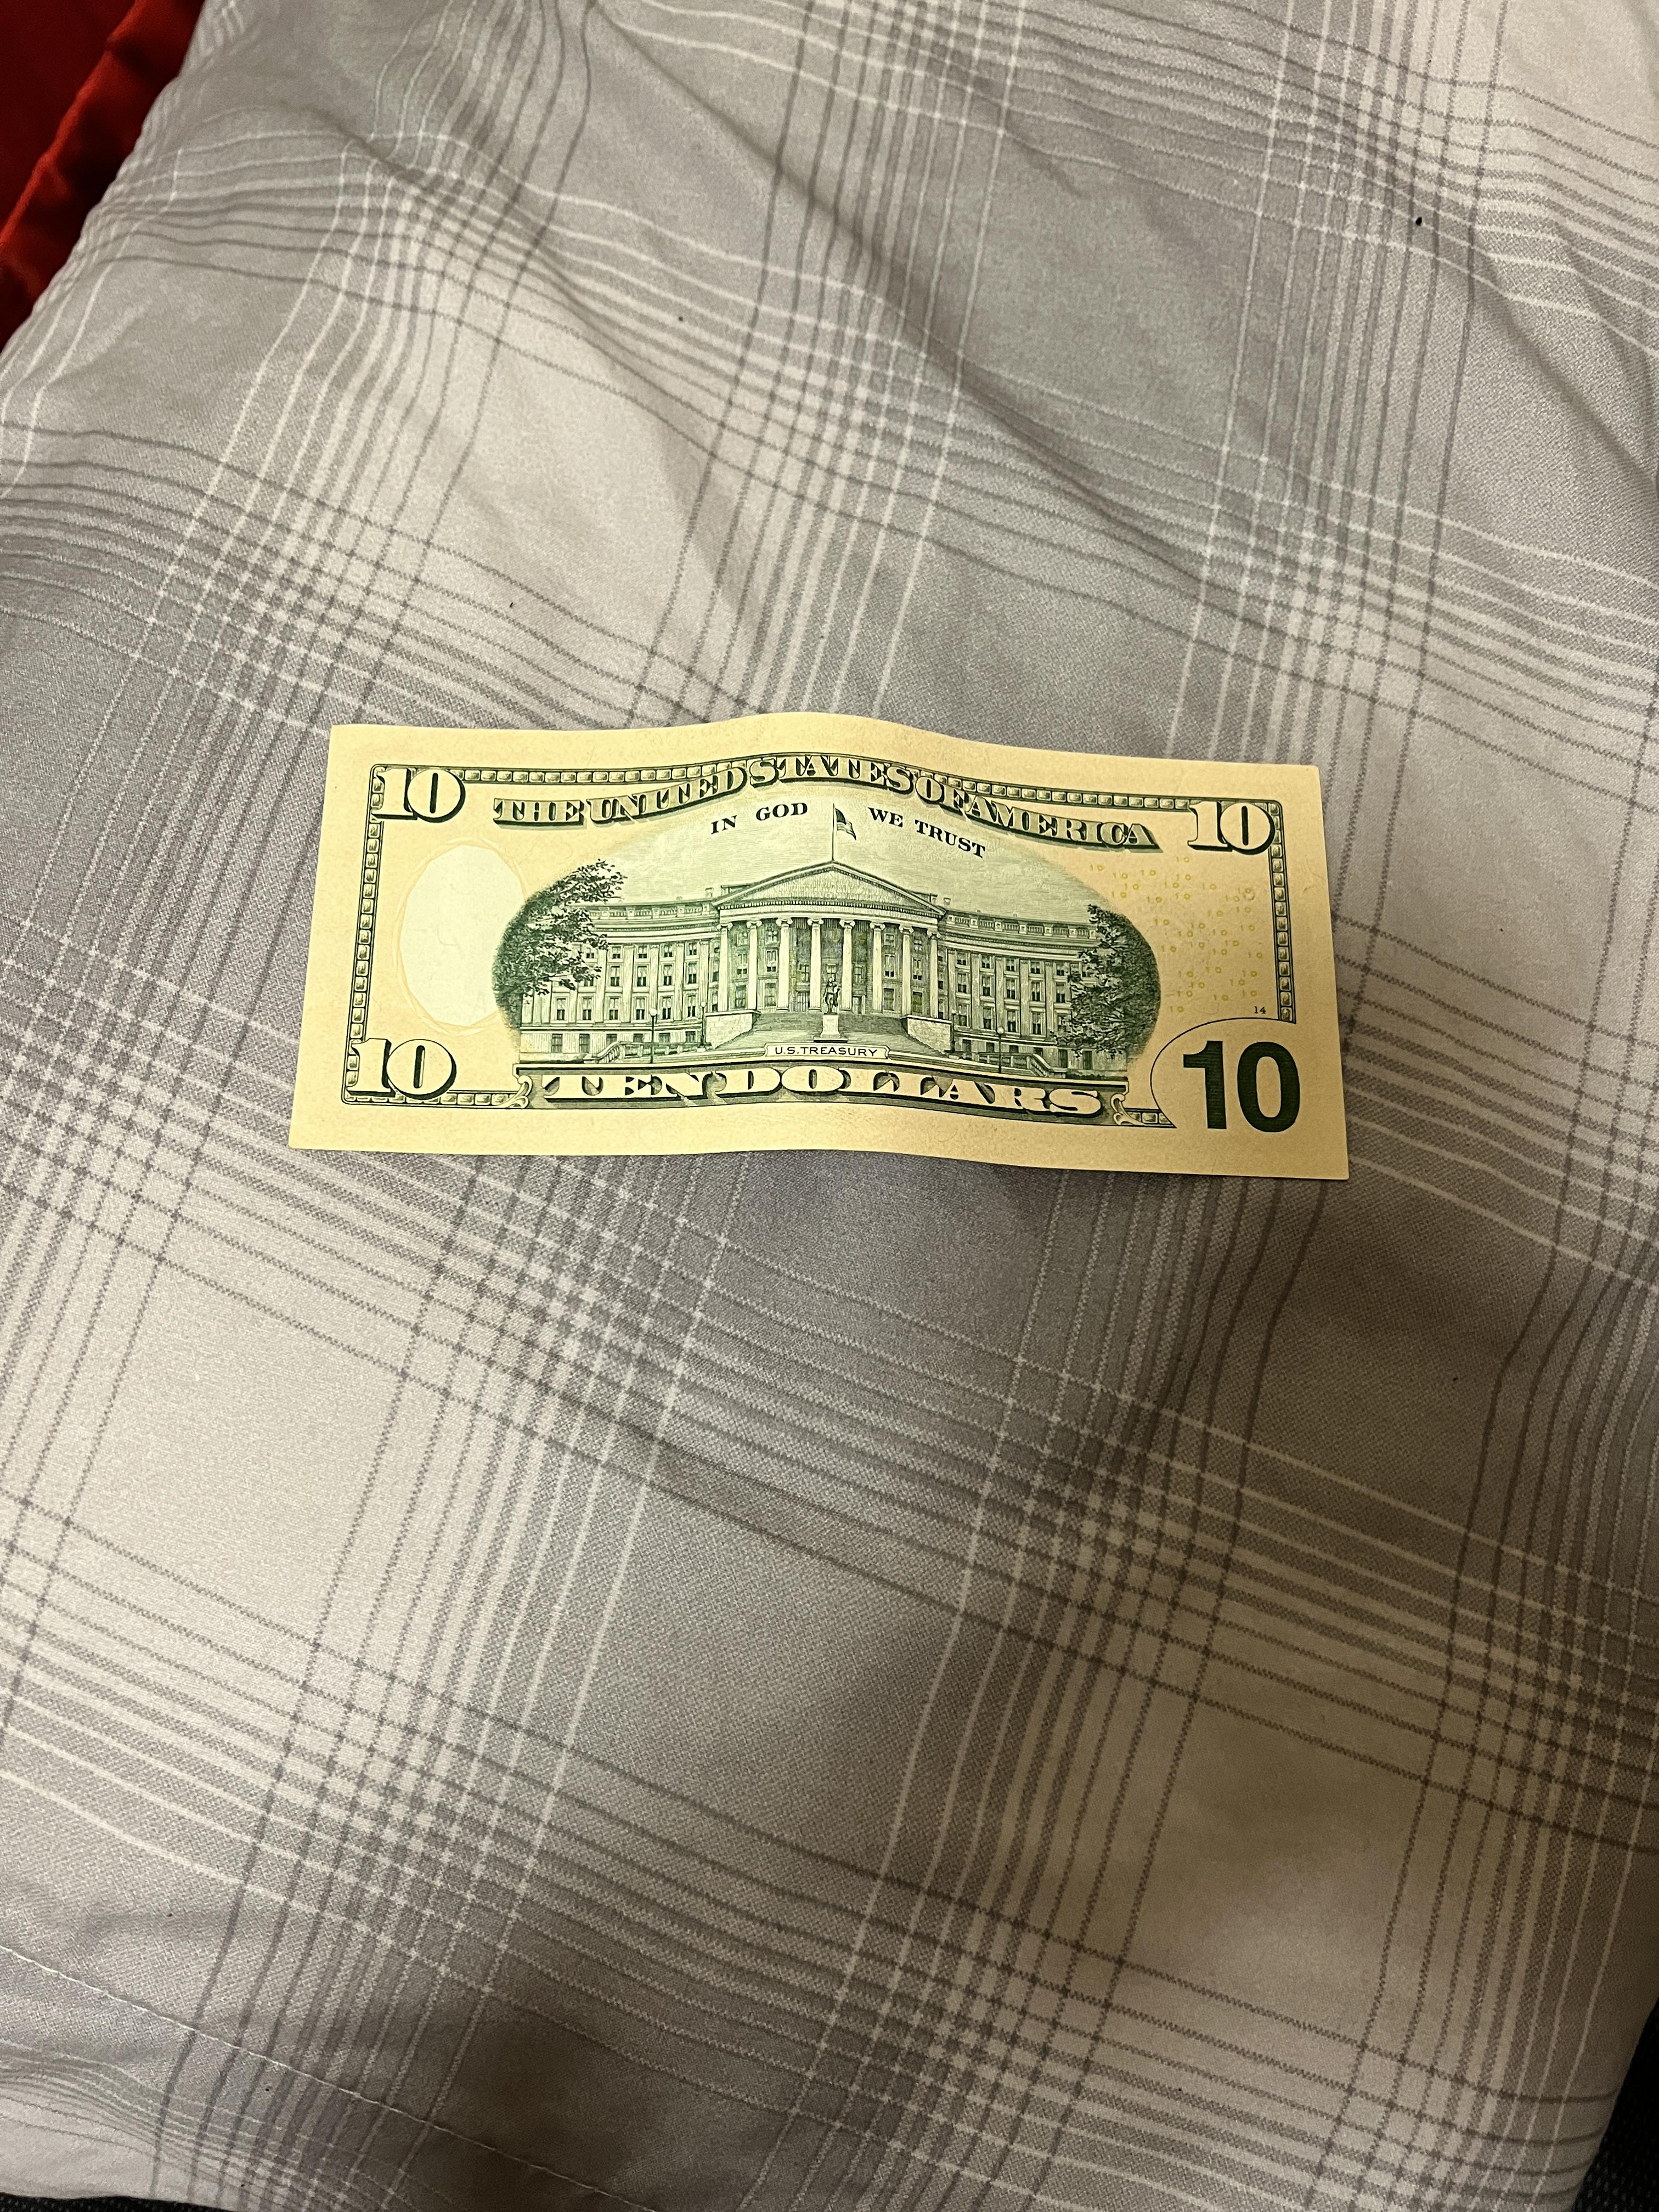TenBill: (296, 702, 1349, 1197)
